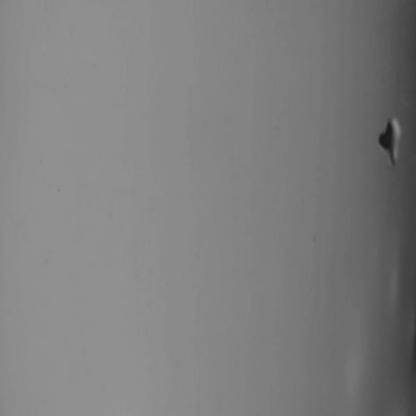kongdong: (370, 113, 410, 173)
